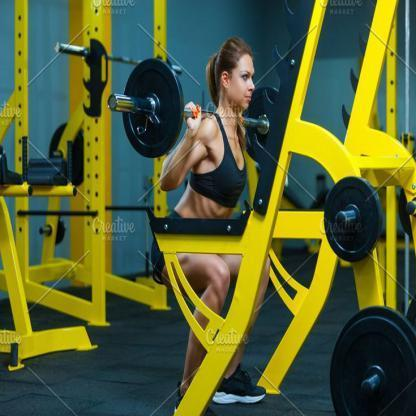barbell: (107, 55, 286, 163)
